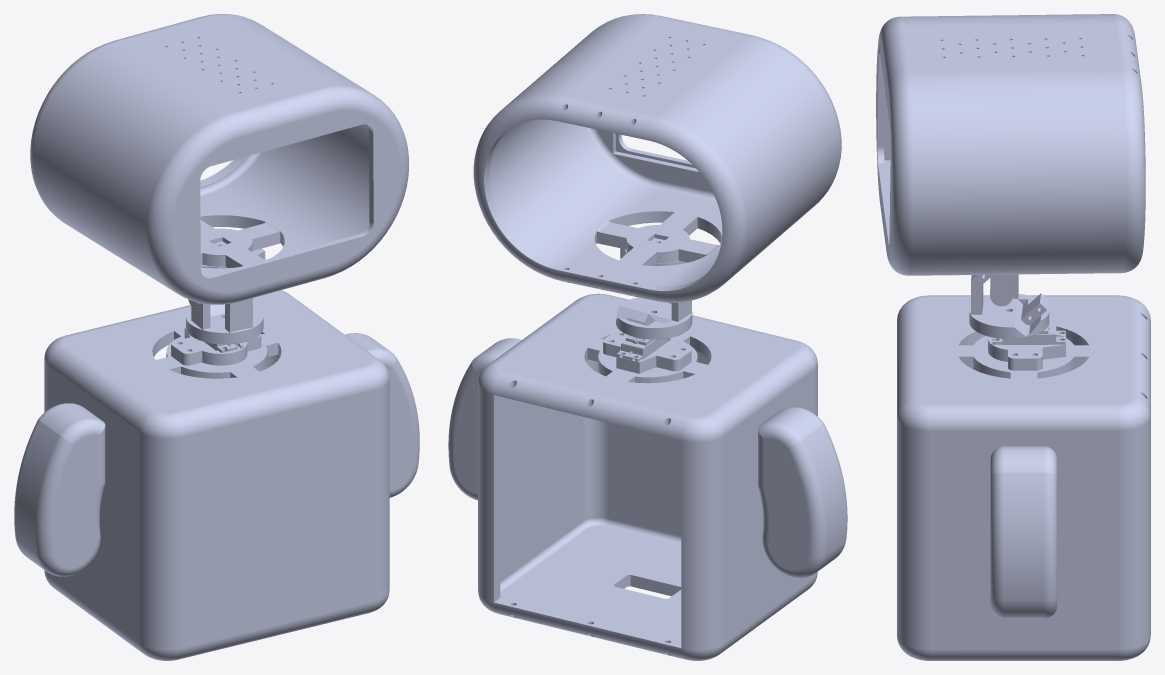
The model's file is cuerpo__entero_assssd.glb.
The picture shows the model from 3 angles, left to right: view 1: azimuth 30°, elevation 25°; view 2: azimuth 150°, elevation 25°; view 3: azimuth 270°, elevation 25°; orthographic projection. The views are drawn at different scales.
Visible parts, largest first — view 1: Cuerpo zyro-1, Cabeza zyro-1, bracito-2, bracito-1, medio cuello-1, abajo cuello-1; view 2: Cuerpo zyro-1, Cabeza zyro-1, bracito-2, bracito-1, medio cuello-1, abajo cuello-1, servo.step-1; view 3: Cuerpo zyro-1, Cabeza zyro-1, bracito-1, medio cuello-1, abajo cuello-1, servo.step-1, arriba cuello (1)-1.
Part boxes in pixels (x1,y1,x2,y2): Cuerpo zyro-1: (44, 290, 389, 660); Cabeza zyro-1: (30, 14, 408, 304); bracito-2: (14, 403, 105, 576); bracito-1: (345, 333, 419, 497); medio cuello-1: (186, 298, 263, 344); abajo cuello-1: (171, 327, 261, 365); Cuerpo zyro-1: (478, 293, 817, 660); Cabeza zyro-1: (473, 14, 841, 302); bracito-2: (758, 407, 847, 577); bracito-1: (448, 338, 521, 500); medio cuello-1: (616, 297, 692, 339); abajo cuello-1: (603, 331, 691, 373); servo.step-1: (617, 335, 670, 361); Cuerpo zyro-1: (897, 295, 1150, 660); Cabeza zyro-1: (876, 14, 1145, 275); bracito-1: (990, 446, 1057, 618); medio cuello-1: (969, 274, 1049, 338); abajo cuello-1: (988, 333, 1065, 370); servo.step-1: (992, 323, 1065, 344); arriba cuello (1)-1: (990, 274, 1013, 306).
Bounding box in the file's own units: 0.342 × 0.4597 × 0.2055.
